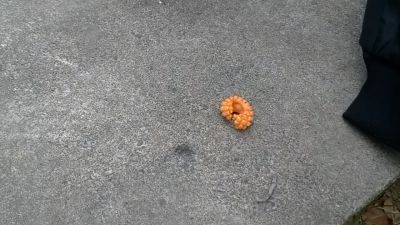eggs: (218, 94, 255, 133)
